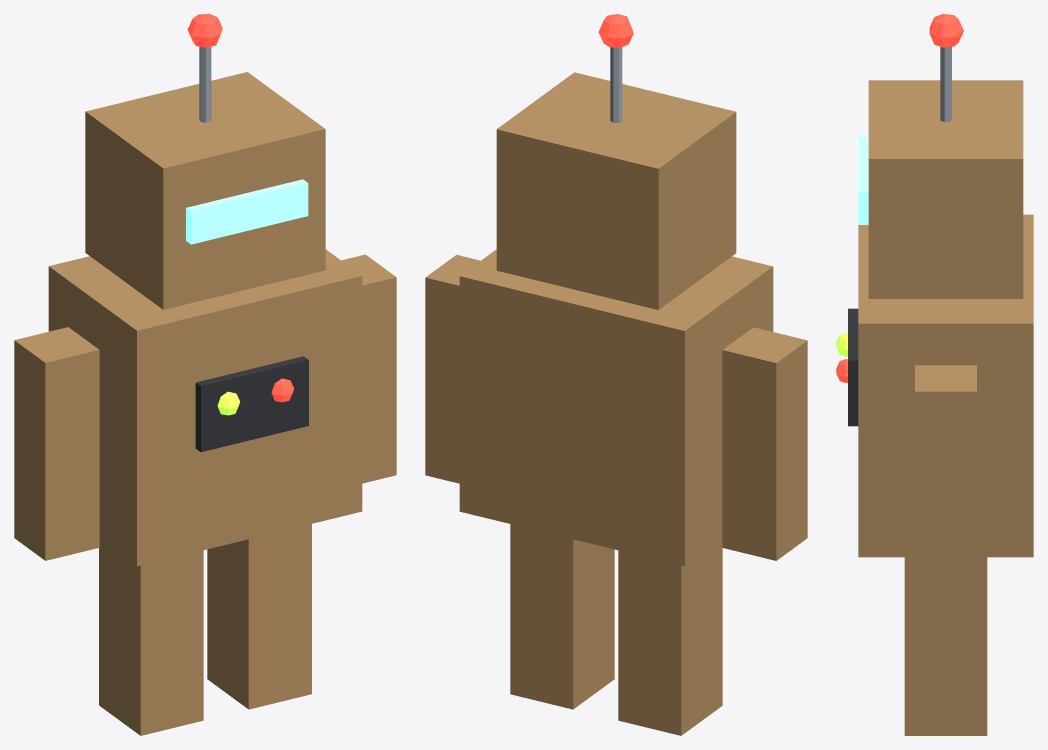
The model's file is robot-lod1.glb.
The picture shows the model from 3 angles, left to right: view 1: azimuth 30°, elevation 25°; view 2: azimuth 150°, elevation 25°; view 3: azimuth 270°, elevation 25°; orthographic projection.
Visible parts, largest first — view 1: robot; view 2: robot; view 3: robot.
Part boxes in pixels (x1=…): robot: x1=14, y1=14, x2=396, y2=735; robot: x1=425, y1=14, x2=807, y2=735; robot: x1=836, y1=14, x2=1033, y2=735.
Size of the model in its own units: 0.78 by 1.45 by 0.3825.
